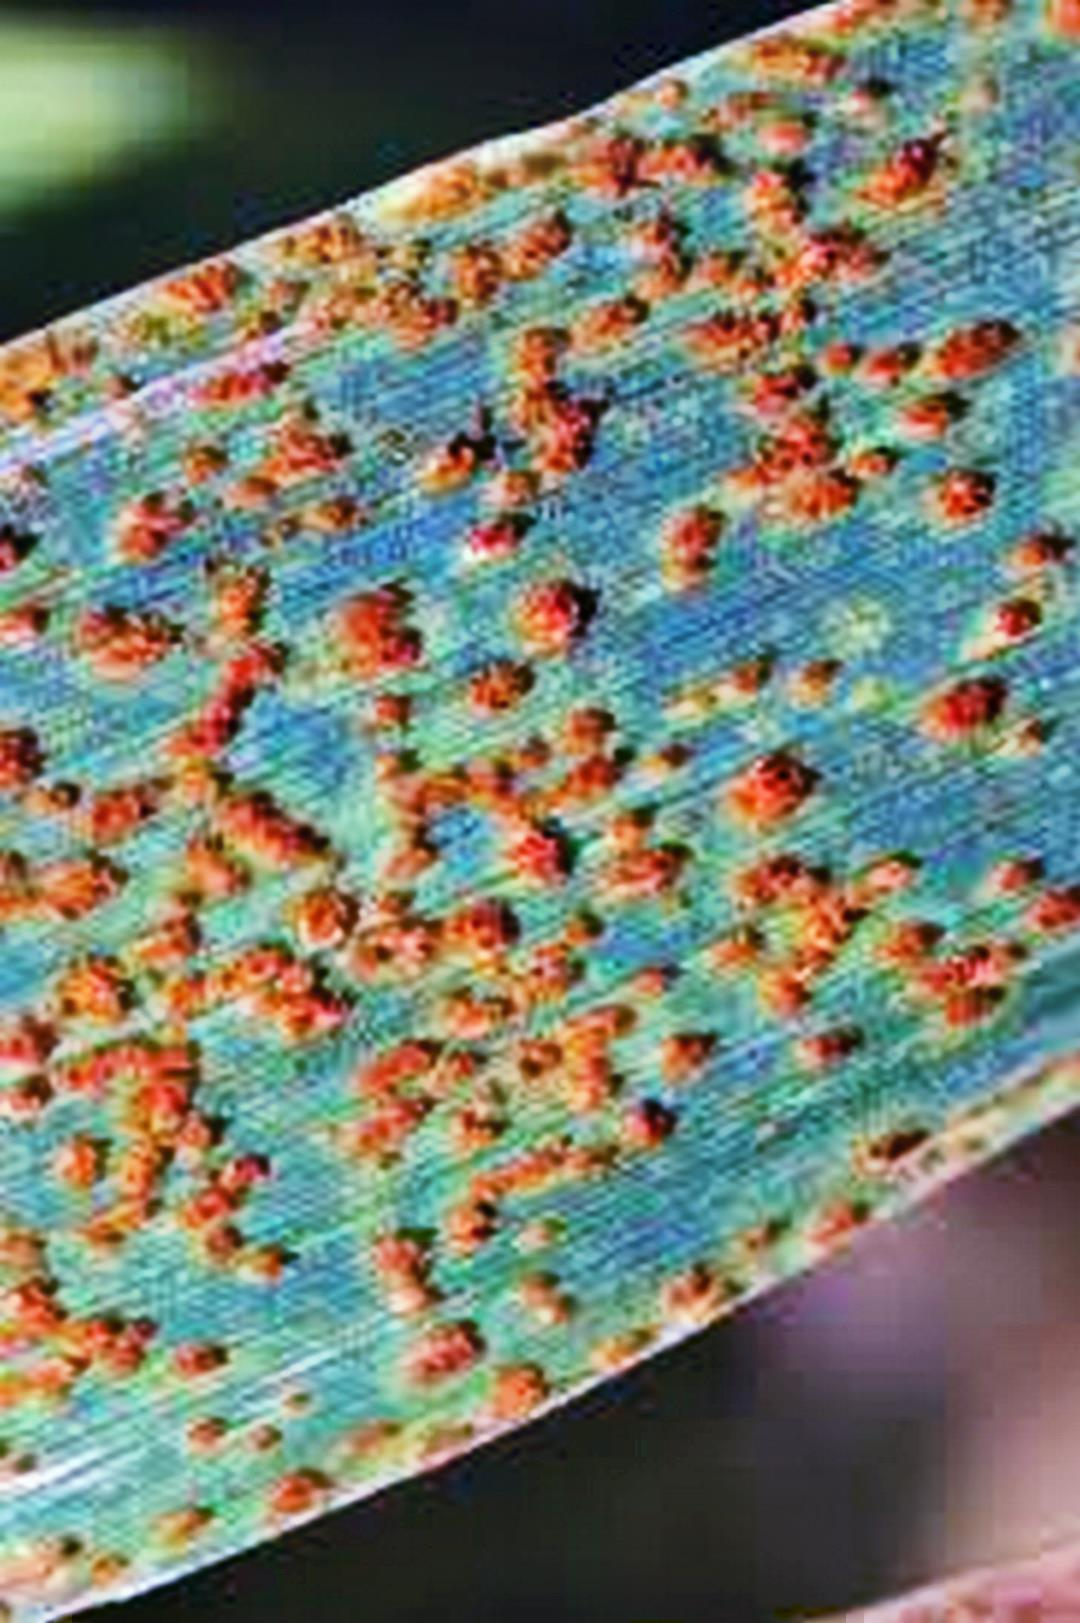Leaf Rust: (19, 42, 940, 1506)
